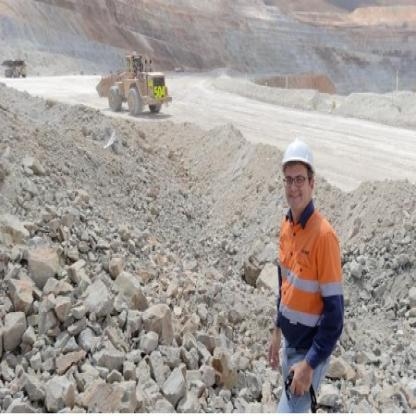bull_dozer/loader/grader: (90, 38, 186, 119)
person: (252, 132, 350, 413)
